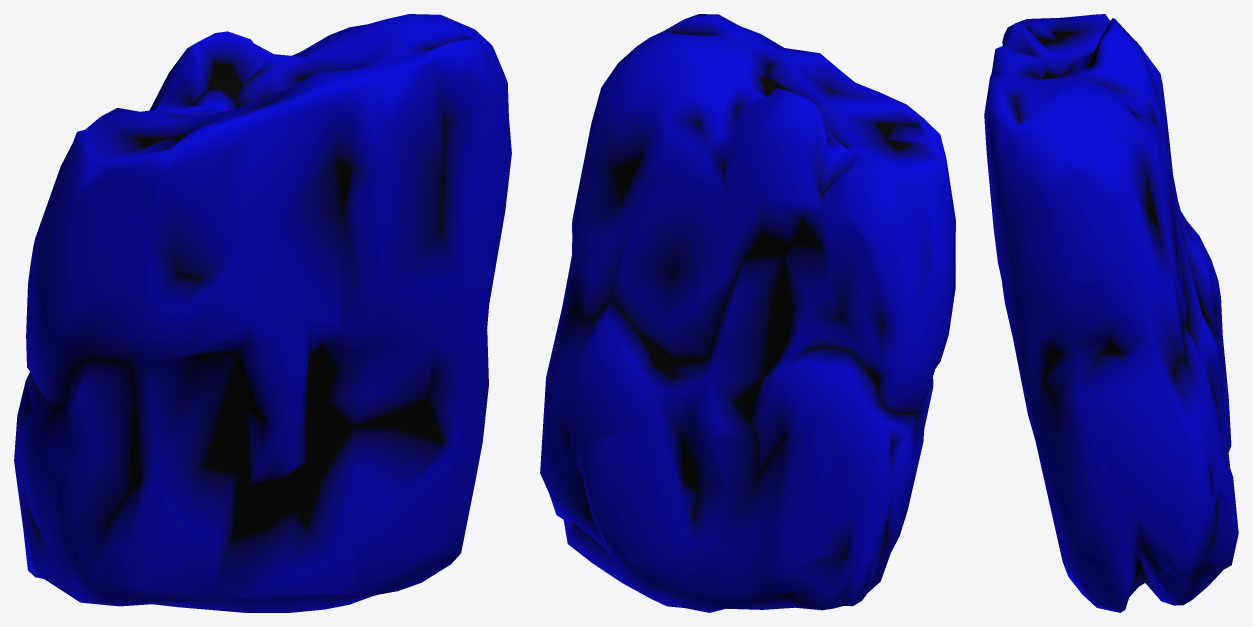
The model's file is Cave_Freeform4.fbx.
The picture shows the model from 3 angles, left to right: view 1: azimuth 30°, elevation 25°; view 2: azimuth 150°, elevation 25°; view 3: azimuth 270°, elevation 25°; orthographic projection. The views are drawn at different scales.
Visible parts, largest first — view 1: Cave_Freeform4; view 2: Cave_Freeform4; view 3: Cave_Freeform4.
Boxes of the visible parts, x1,y1,x2,y2 form: Cave_Freeform4: (14,14,511,612); Cave_Freeform4: (540,14,955,612); Cave_Freeform4: (984,14,1238,612).
Size of what is drawn, in the model's own units: 0.822 by 1.08 by 0.4817.
